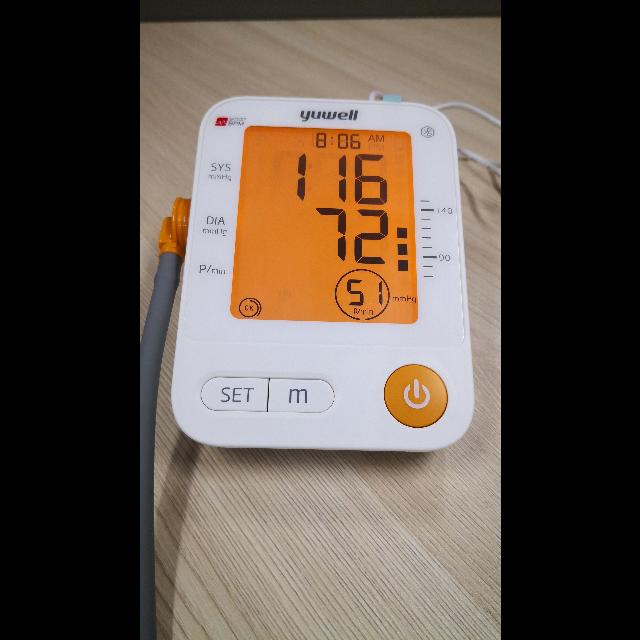Blood-Pressure-Monitor: (170, 96, 474, 452)
